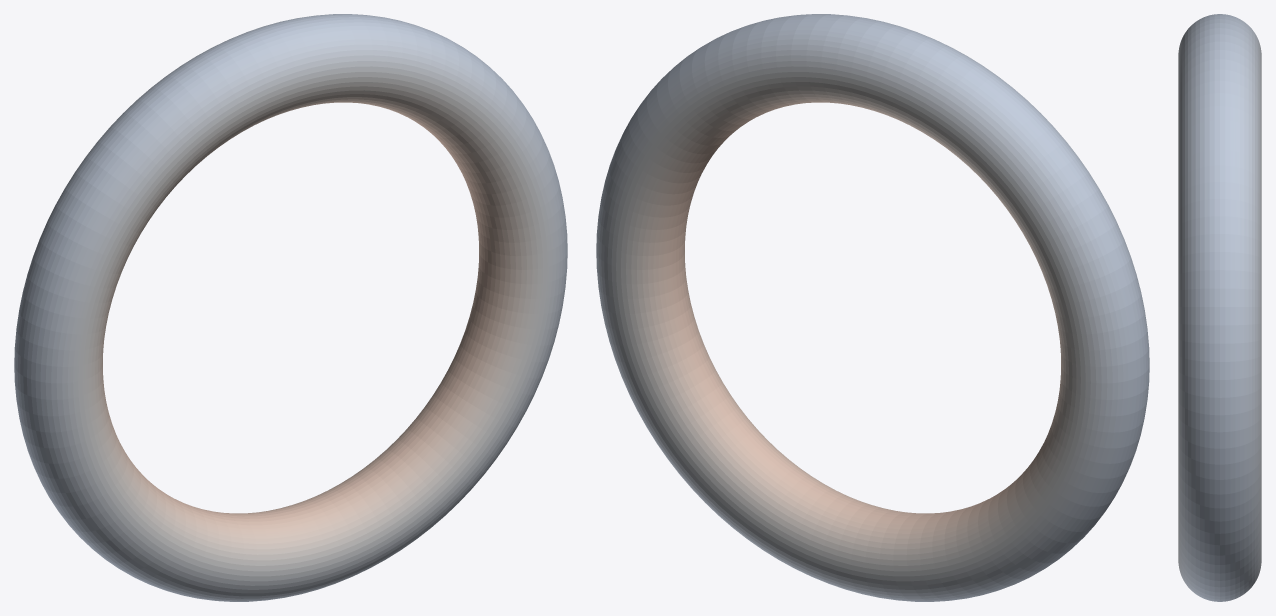
The picture shows the model from 3 angles, left to right: view 1: azimuth 30°, elevation 25°; view 2: azimuth 150°, elevation 25°; view 3: azimuth 270°, elevation 25°; orthographic projection. The views are drawn at different scales.
Parts seen in each view (by area): view 1: world; view 2: world; view 3: world.
Part boxes in pixels (<box>): world: <box>14,14,567,601</box>; world: <box>596,14,1149,601</box>; world: <box>1178,14,1261,601</box>.
Bounding box in the file's own units: 31.07 × 31.07 × 4.39.
